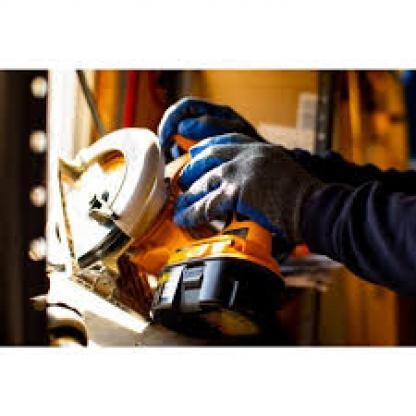with_gloves: (172, 133, 318, 242), (158, 94, 264, 144)
